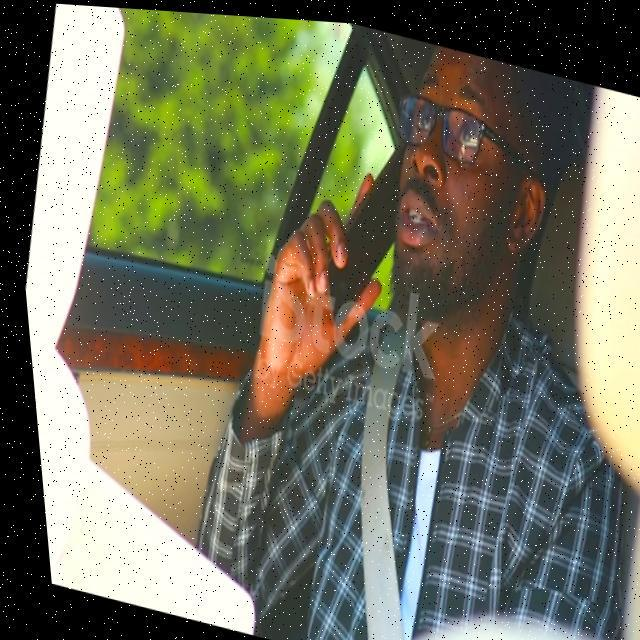PhoneCall: (299, 112, 432, 340)
